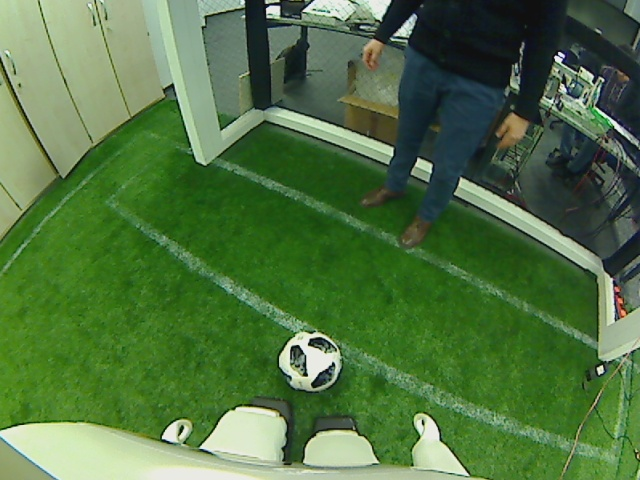ball: (277, 326, 342, 394)
